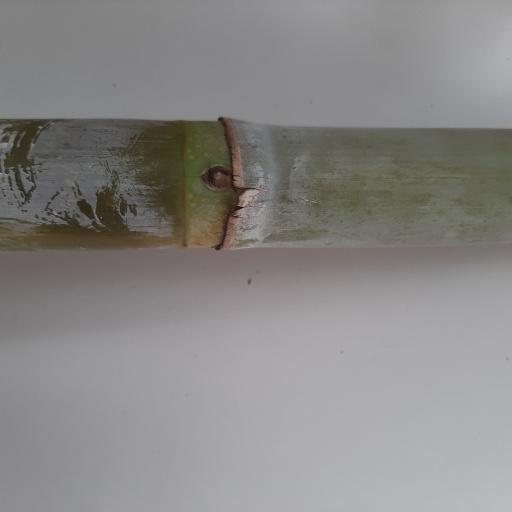Bud: (202, 164, 234, 192)
